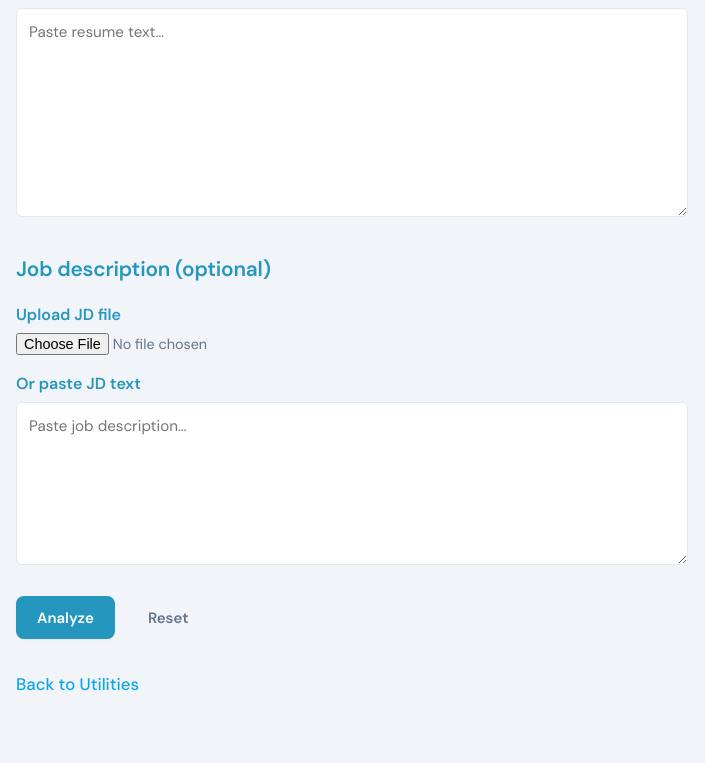
Test: ResumeParser page › shows error when analyzing without resume input
(page scrolled)
Click the button "Analyze" at [65, 618], box [16, 596, 115, 639]
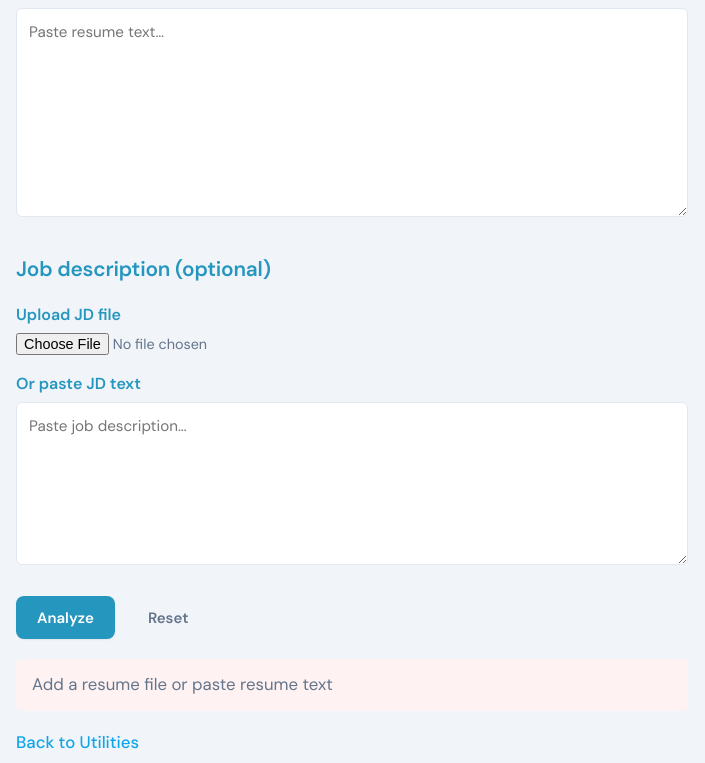
Result: the message shows "Add a resume" at [32, 673, 333, 695]
